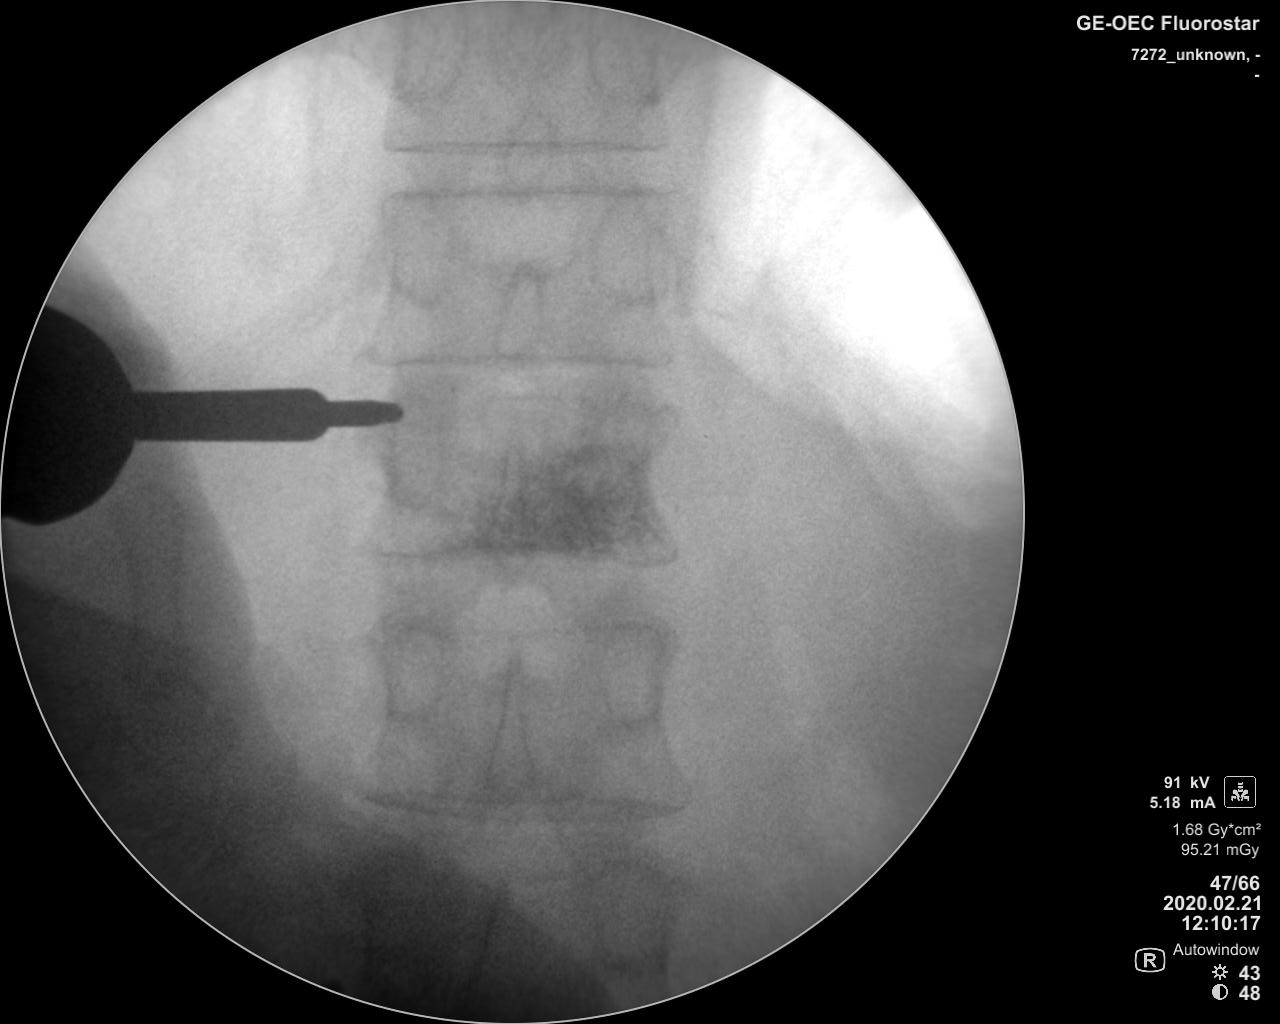eyes: (591, 851, 676, 962), (363, 618, 450, 719), (589, 621, 673, 725), (589, 189, 666, 303), (581, 395, 655, 492), (598, 24, 674, 116), (385, 193, 447, 304), (385, 397, 443, 508), (391, 13, 459, 108)
line: (350, 781, 702, 832), (351, 530, 698, 574), (341, 338, 686, 374), (369, 132, 685, 166), (363, 181, 693, 204)
nose: (484, 632, 546, 815), (487, 413, 543, 587), (489, 245, 541, 367), (498, 91, 554, 203)
